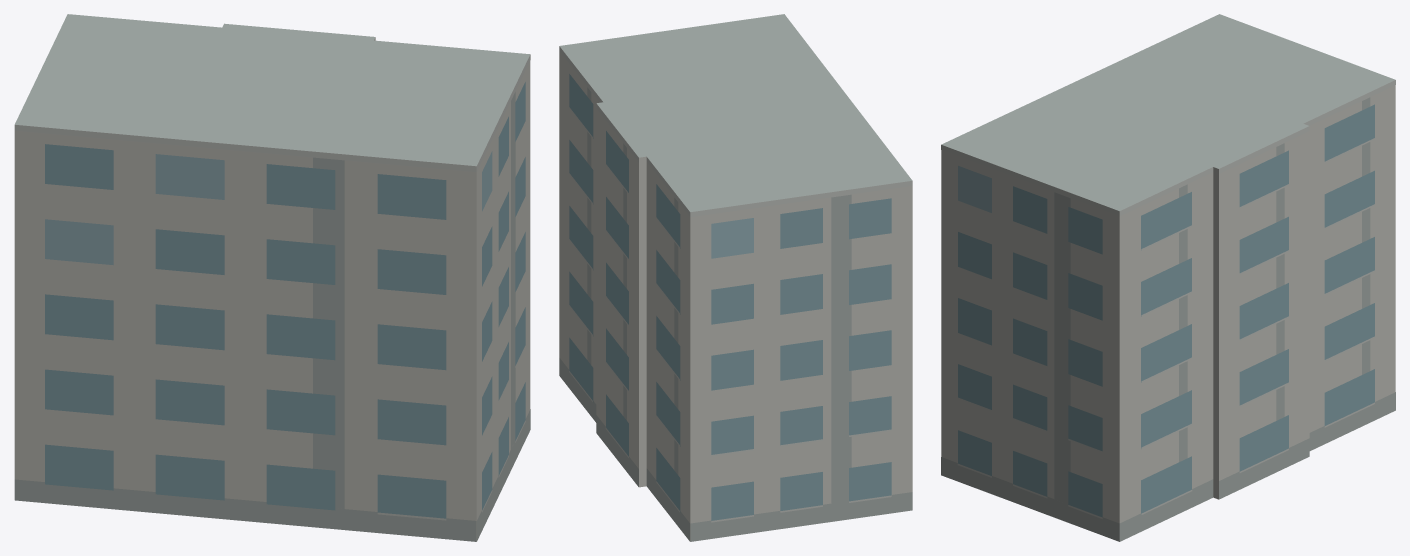
File: survey-upis-32773203.glb
3 views of the same model, side by side, from view 1: azimuth 30°, elevation 25°; view 2: azimuth 150°, elevation 25°; view 3: azimuth 270°, elevation 25° (orthographic). The views are drawn at different scales.
Parts seen in each view (by area): view 1: survey-upis-32773203.tmp; view 2: survey-upis-32773203.tmp; view 3: survey-upis-32773203.tmp.
Boxes of the visible parts, <box> form: survey-upis-32773203.tmp: <box>14,14,530,541</box>; survey-upis-32773203.tmp: <box>559,14,912,541</box>; survey-upis-32773203.tmp: <box>941,14,1395,541</box>.
Size of the model in its own units: 19.52 by 15.25 by 19.01.
